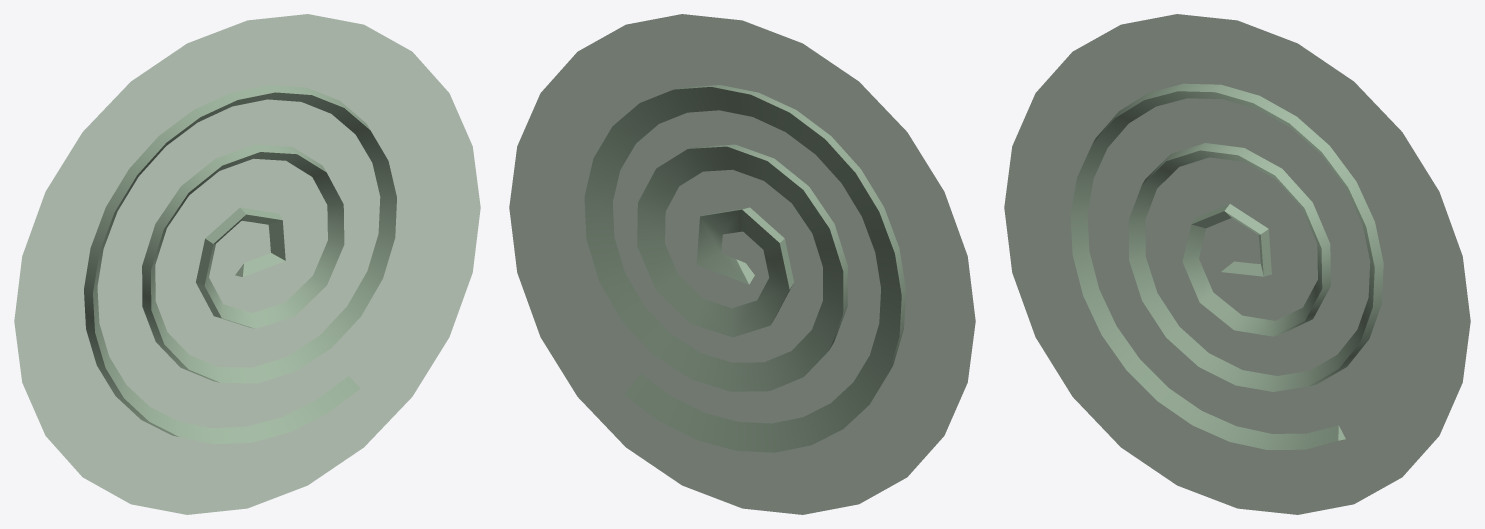
File: Portal.fbx
3 views of the same model, side by side, from view 1: azimuth 30°, elevation 25°; view 2: azimuth 150°, elevation 25°; view 3: azimuth 330°, elevation 25° (orthographic).
Parts seen in each view (by area): view 1: Portal, Portal_Spiral; view 2: Portal, Portal_Spiral; view 3: Portal, Portal_Spiral.
Part boxes in pixels (x1,y1,x2,y2): Portal: (14, 14, 480, 514); Portal_Spiral: (84, 85, 396, 444); Portal: (509, 14, 975, 514); Portal_Spiral: (584, 85, 905, 452); Portal: (1004, 14, 1470, 514); Portal_Spiral: (1070, 83, 1383, 449).
Bounding box in the file's own units: 57.75 × 57.75 × 3.11.
